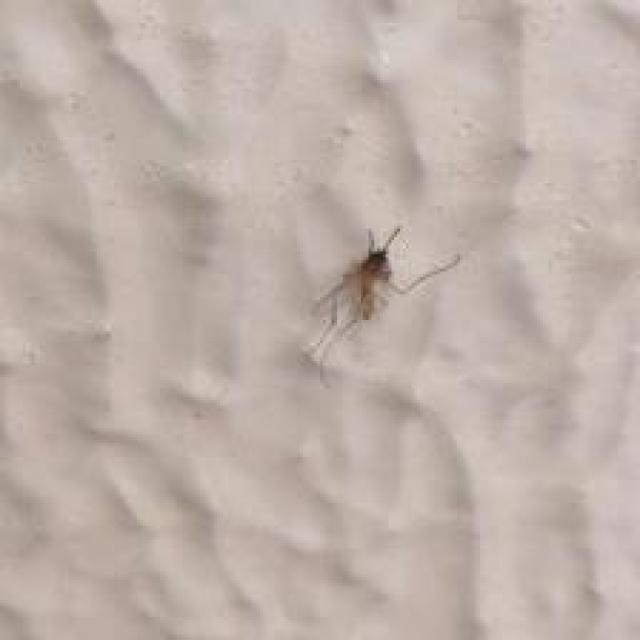Culex: (298, 223, 462, 380)
